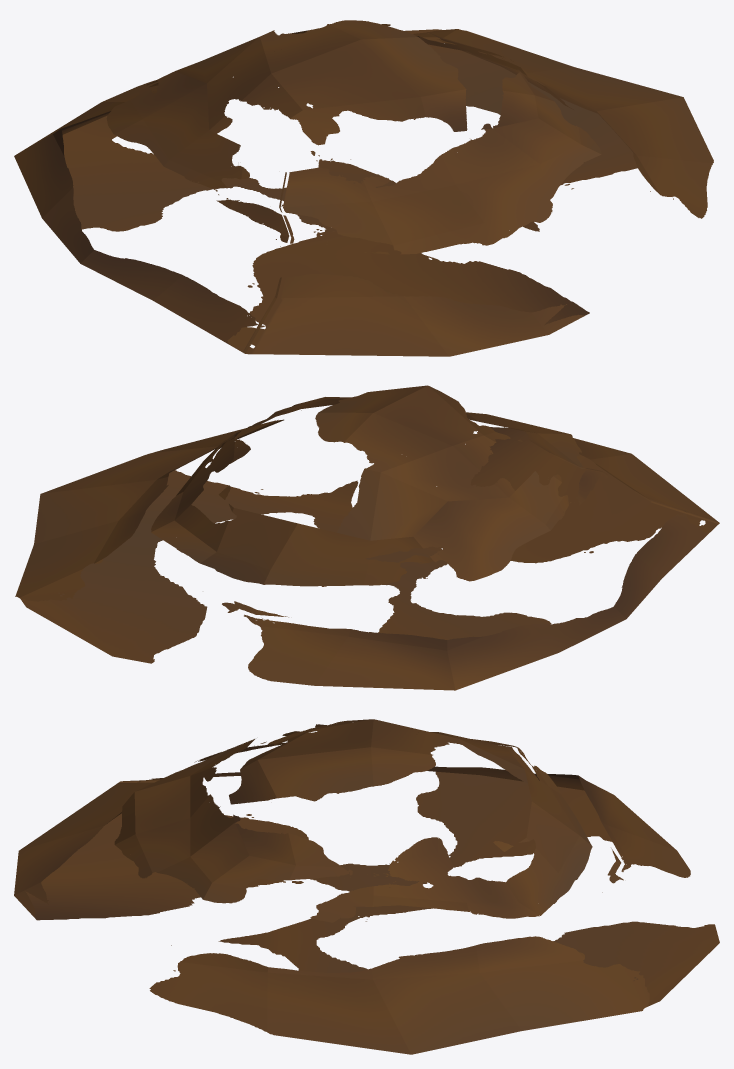
Rendered from Collin_dirtPile_00.fbx.
3 renders of one model, top to bottom at view 1: azimuth 30°, elevation 25°; view 2: azimuth 150°, elevation 25°; view 3: azimuth 270°, elevation 25°, orthographic. The views are drawn at different scales.
Visible parts, largest first — view 1: Pileofdirt; view 2: Pileofdirt; view 3: Pileofdirt.
Part boxes in pixels (left/top/right/bottom): Pileofdirt: left=14, top=20, right=713, bottom=356; Pileofdirt: left=15, top=385, right=719, bottom=690; Pileofdirt: left=14, top=719, right=719, bottom=1054.
Bounding box in the file's own units: 32.98 × 7.95 × 34.19.
1 material, 1 textured.
